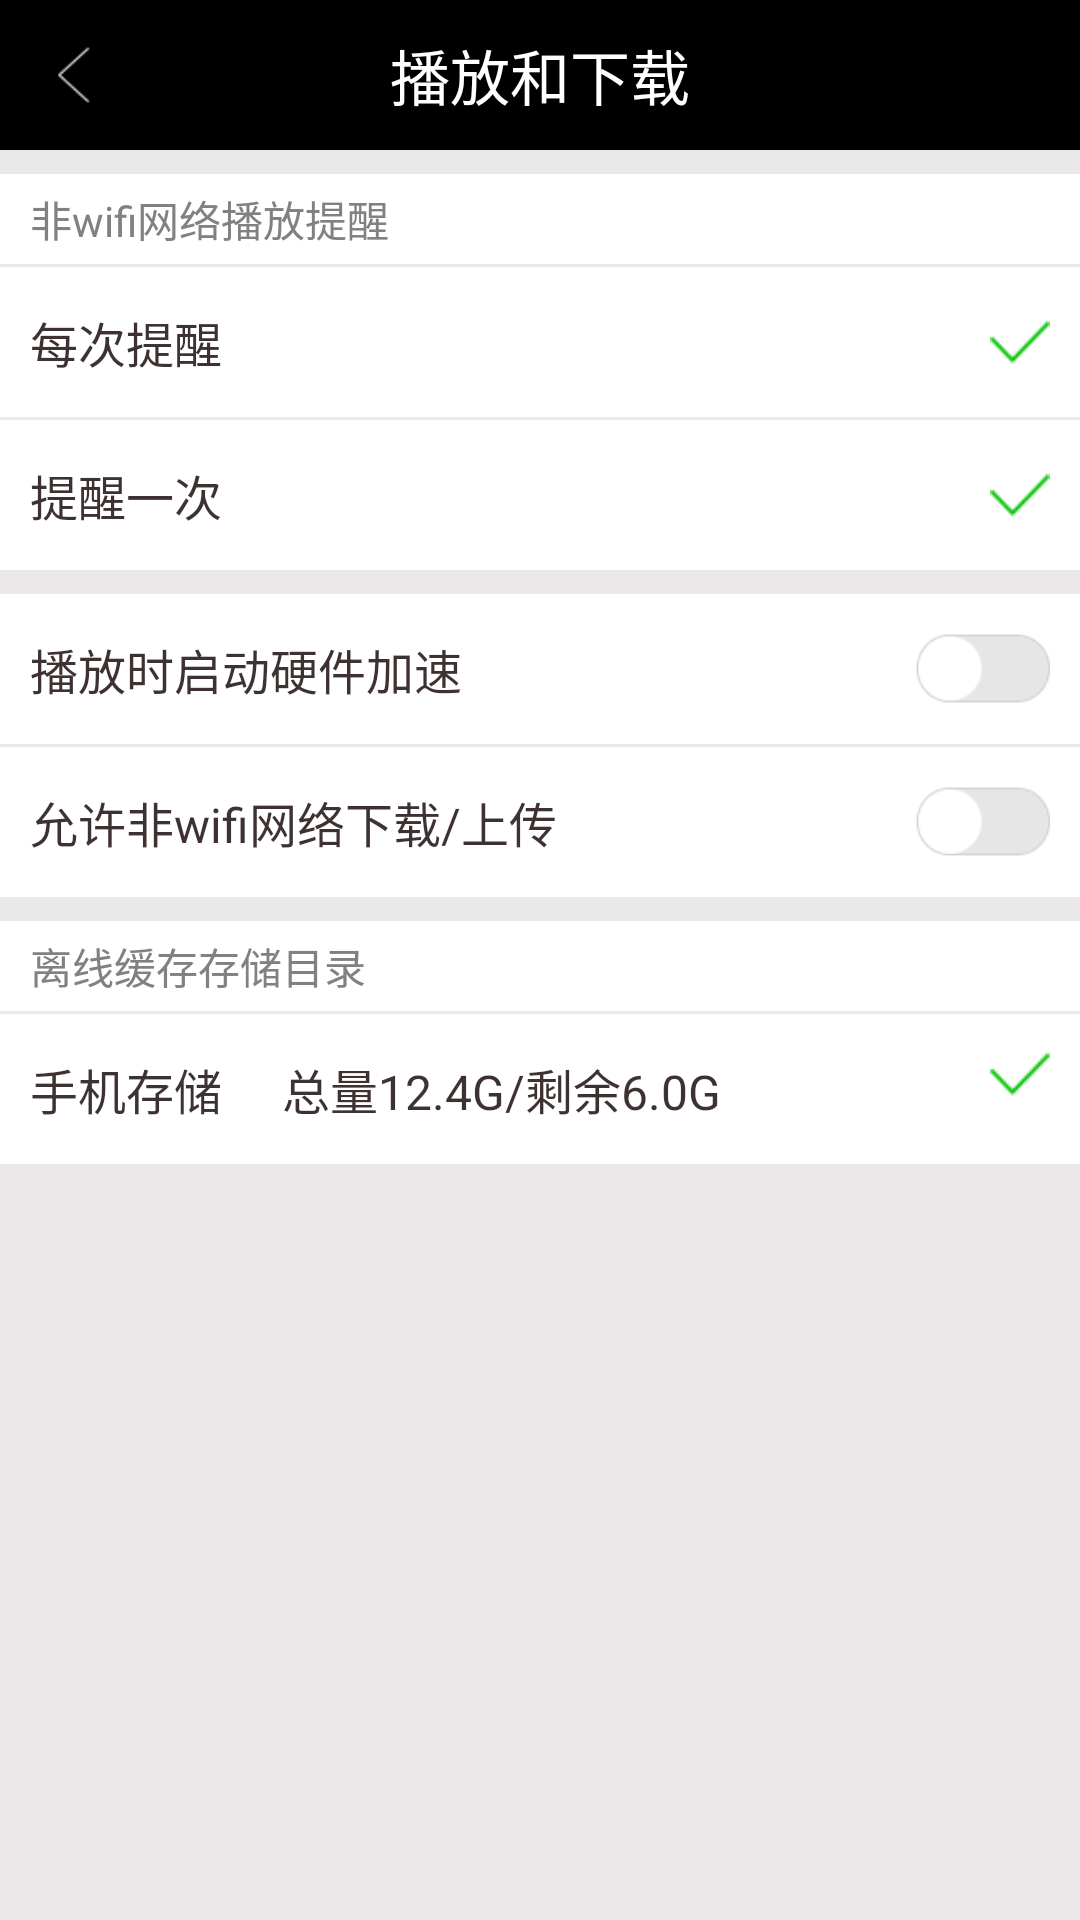

Named icons in this screenshot (1080px x 1920px) and their bounding boxes, (x1=x1, y1=y1, x2=x2, y2=y2):
phone account back: (x1=58, y1=47, x2=90, y2=103)
phone my setting switch: (x1=917, y1=635, x2=1050, y2=702), (x1=917, y1=788, x2=1050, y2=855)
phone radio: (x1=990, y1=320, x2=1050, y2=364), (x1=990, y1=473, x2=1050, y2=517), (x1=990, y1=1052, x2=1050, y2=1096)
